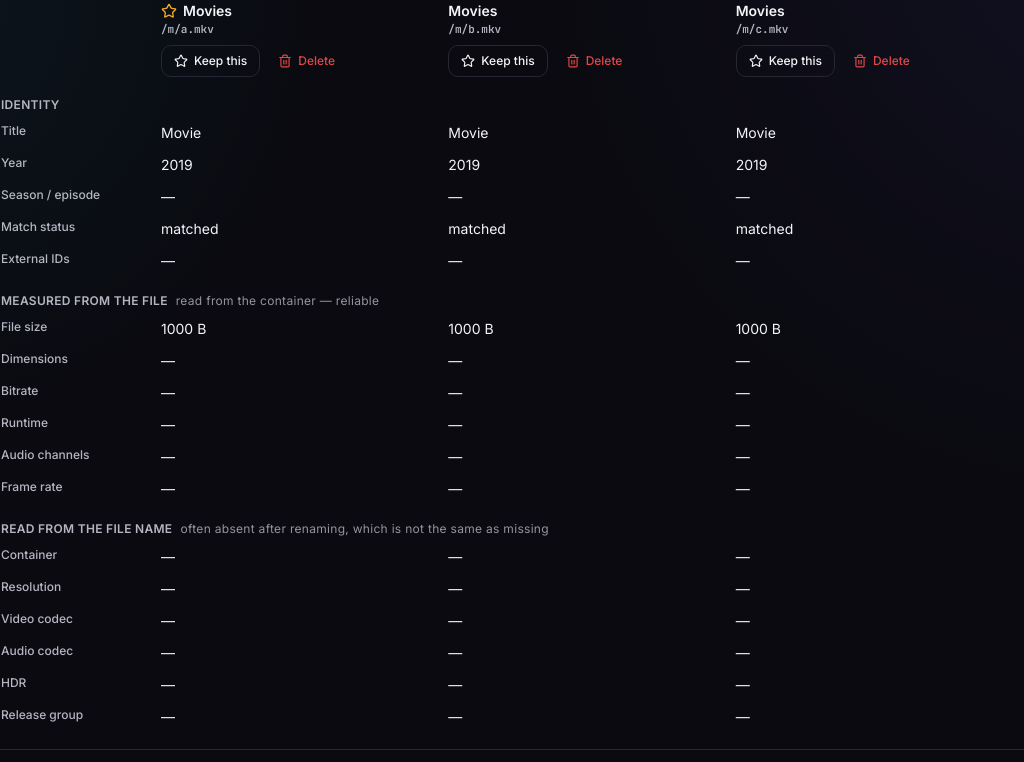
Test: DuplicateComparison — per-file actions › Delete on one copy previews removing ONLY that copy, keeping the rest
Expected: the text "/m/b.mkv" is shown, [448,22,501,36]
Step 1. Click the button with aria-label "Delete only this copy: /m/b.mkv" → (594, 61), box [554,45,634,77]
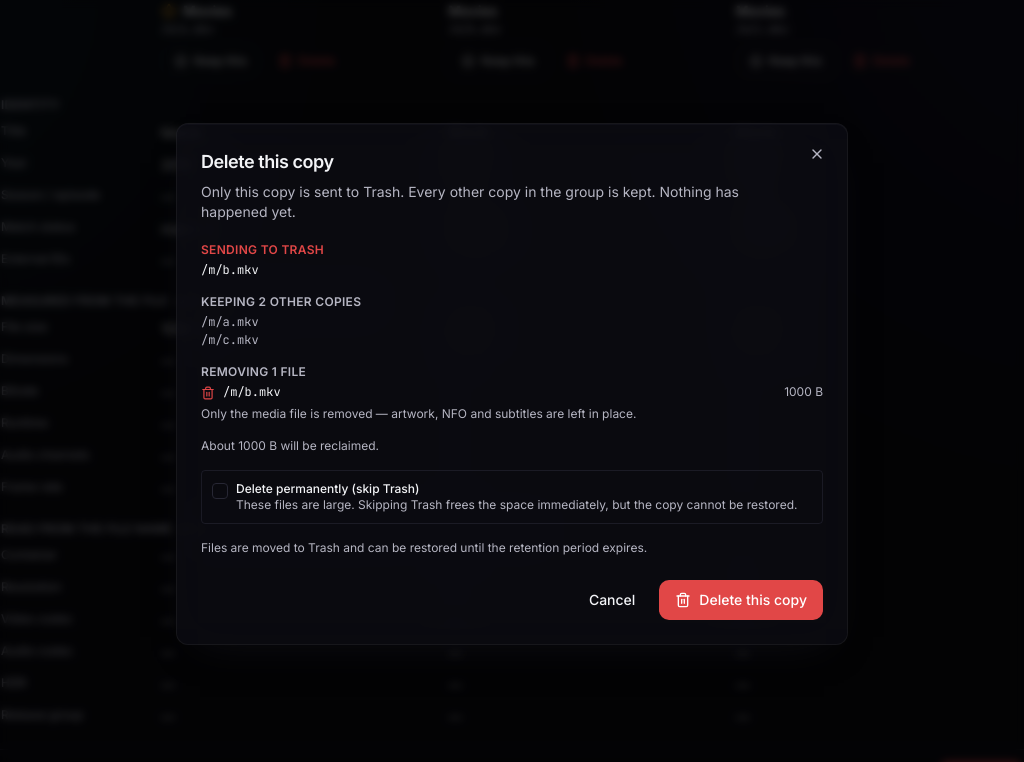
Expected: the text "/m/b.mkv" below "Sending to Trash" is shown, [201,262,259,278]
Expected: the list item "/m/a.mkv" is shown, [201,314,259,330]
Expected: the list item "/m/c.mkv" is shown, [201,332,259,348]
